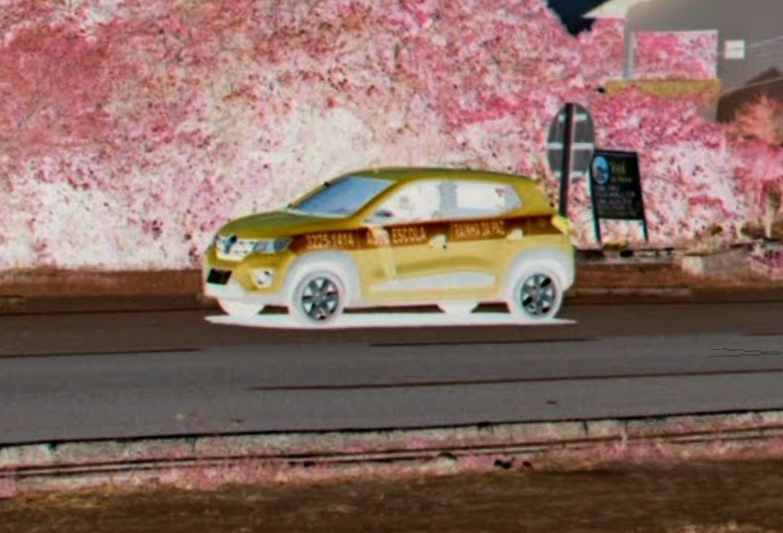car: (198, 164, 576, 330)
